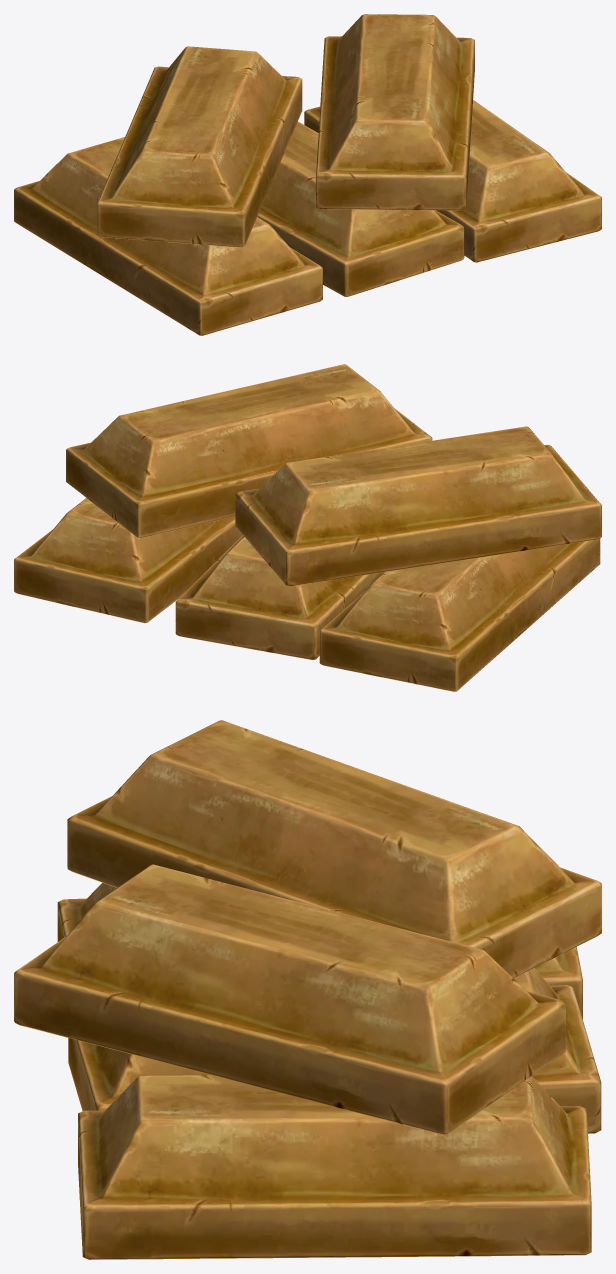
3 renders of one model, top to bottom at view 1: azimuth 30°, elevation 25°; view 2: azimuth 150°, elevation 25°; view 3: azimuth 270°, elevation 25°, orthographic. The views are drawn at different scales.
Parts seen in each view (by area): view 1: SM_Dec_Ingot_Pile_5_LOD0; view 2: SM_Dec_Ingot_Pile_5_LOD0; view 3: SM_Dec_Ingot_Pile_5_LOD0.
Part boxes in pixels (x1,y1,x2,y2): SM_Dec_Ingot_Pile_5_LOD0: [14, 14, 601, 335]; SM_Dec_Ingot_Pile_5_LOD0: [14, 364, 601, 691]; SM_Dec_Ingot_Pile_5_LOD0: [14, 720, 601, 1259].
Bounding box in the file's own units: 0.868 × 0.2674 × 0.6201.
1 material, 1 textured.
